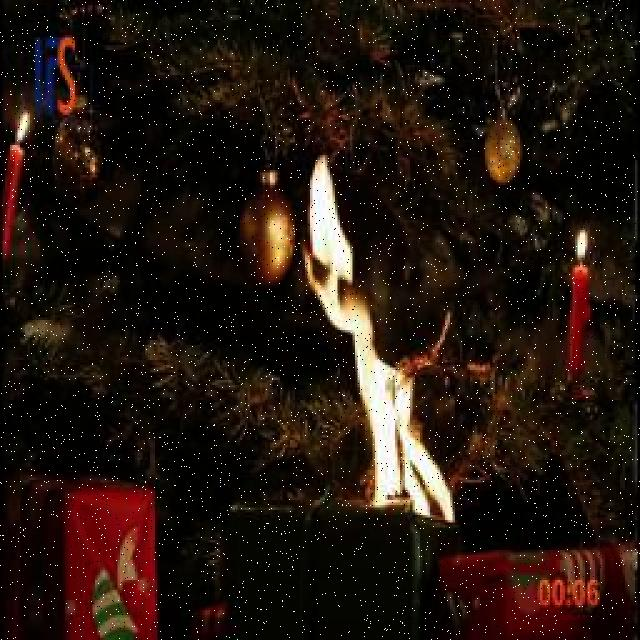fire: (298, 148, 473, 535)
